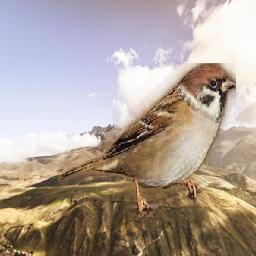Sparrow: (58, 63, 236, 217)
